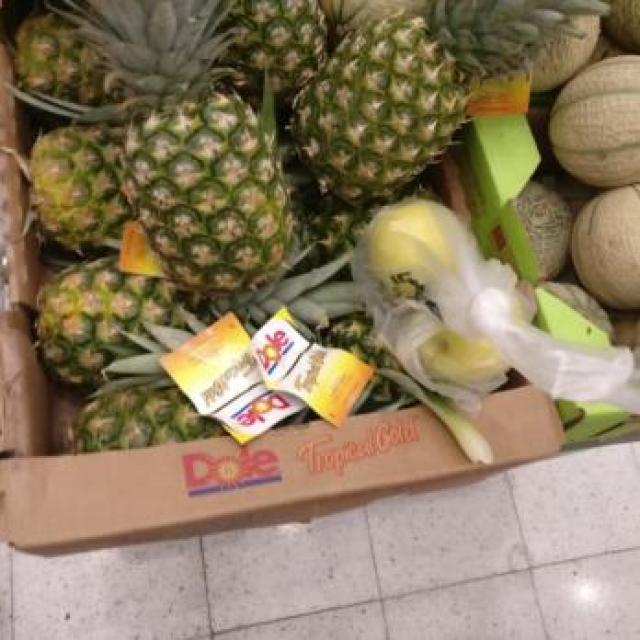pineapple: (64, 1, 292, 292), (291, 0, 604, 206), (38, 256, 172, 384), (1, 129, 130, 252), (78, 386, 222, 451), (234, 0, 326, 92), (16, 15, 105, 104)
